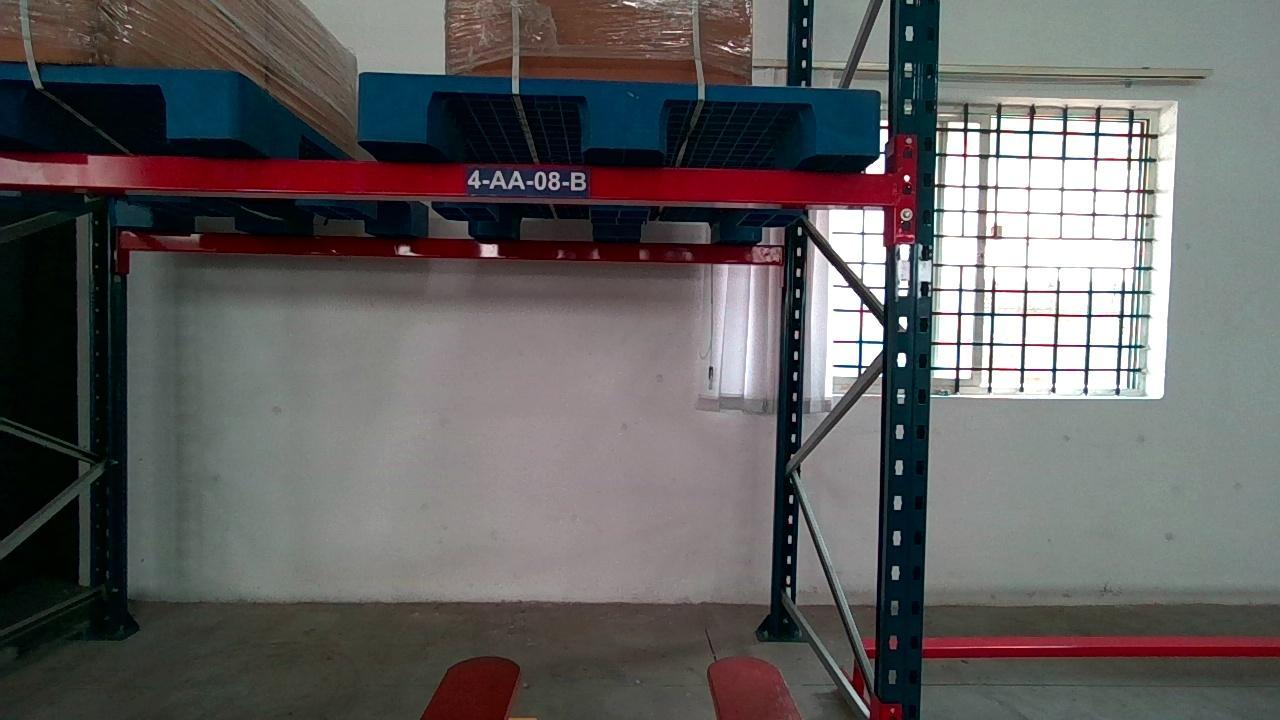h_rack: (0, 153, 898, 204)
small_pallet: (359, 71, 878, 154)
